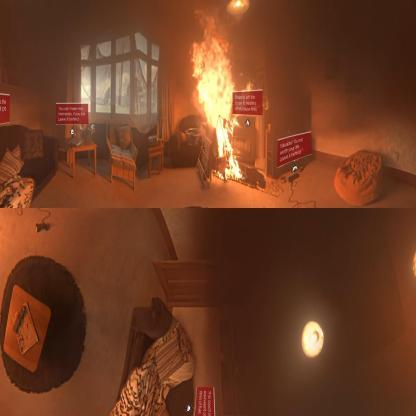fire: (188, 28, 246, 189)
